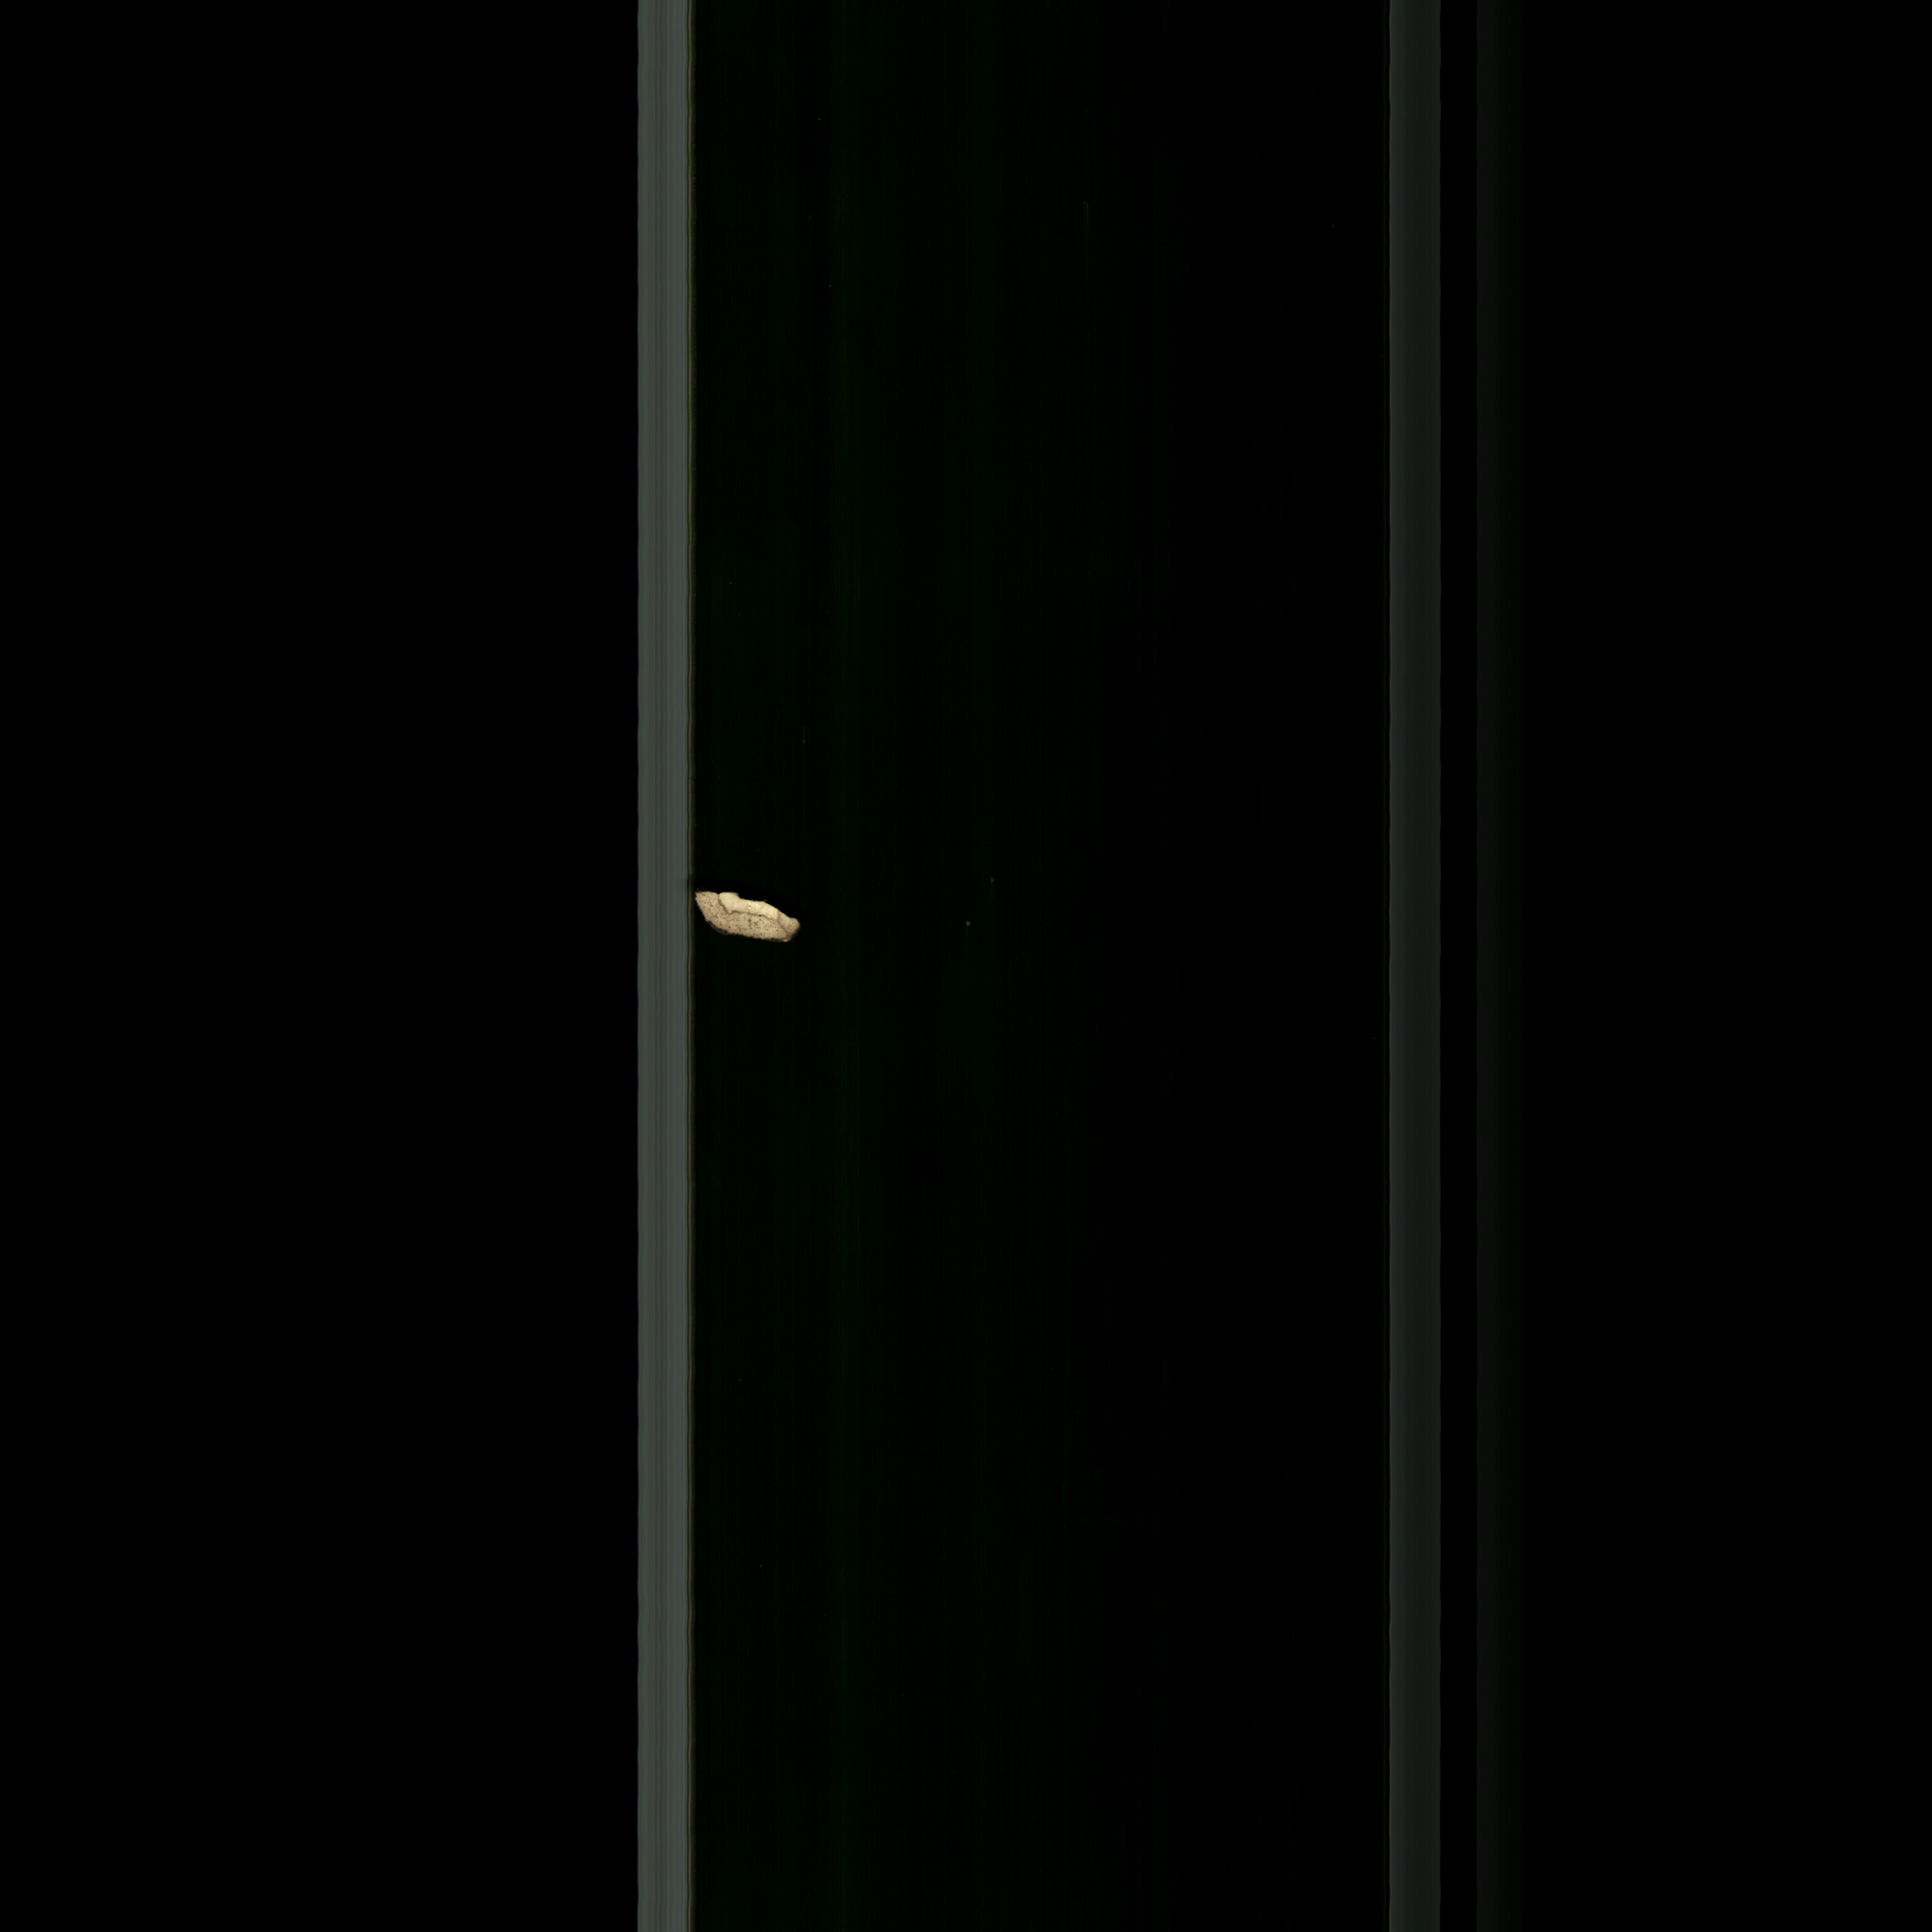debris: (681, 863, 821, 955)
